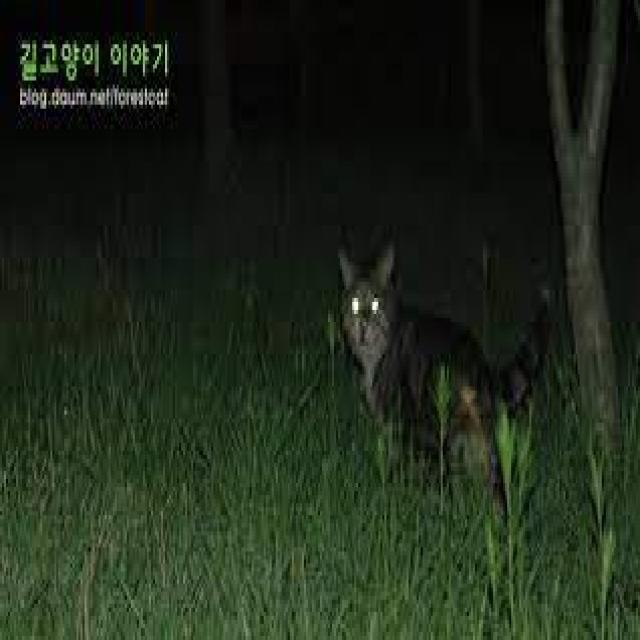cat: (332, 176, 559, 552)
